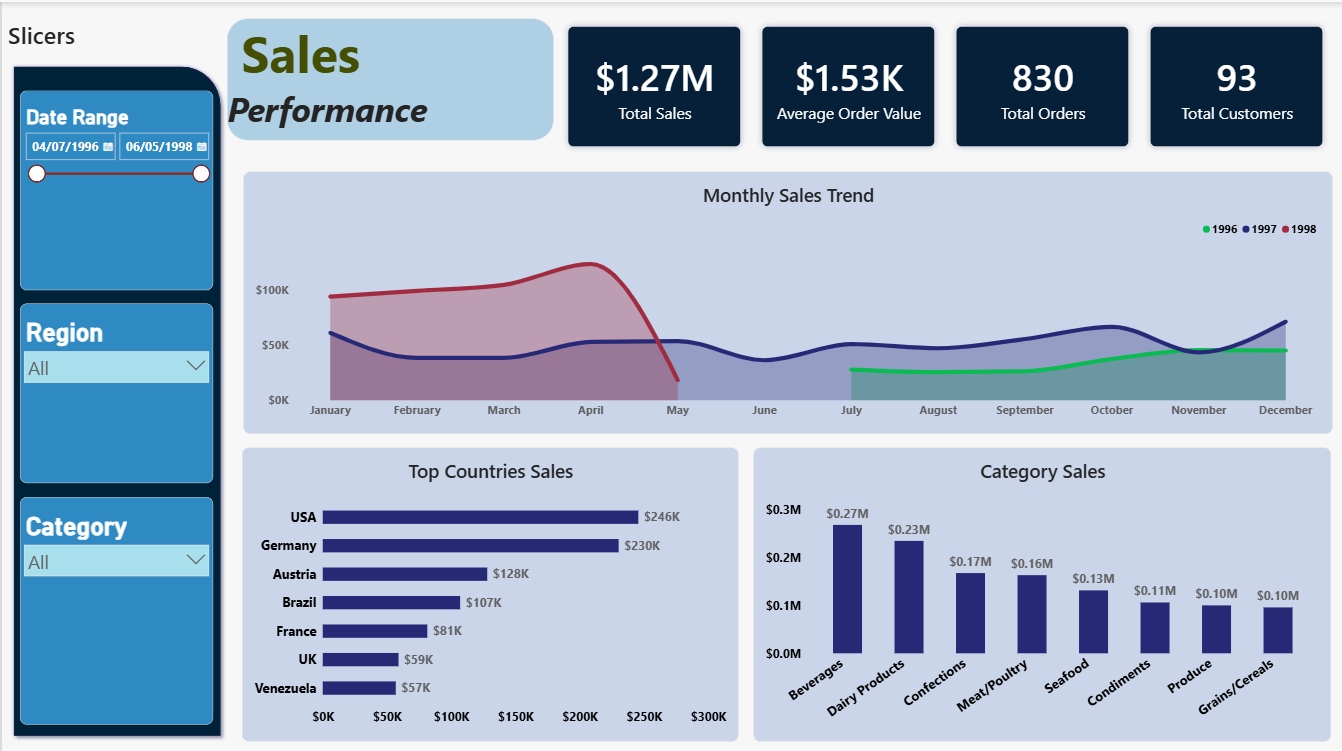

What the dashboard file says about the page in this screenshot:
{"tool":"powerbi","page":{"name":"Page 1","canvas":[1920,1080],"ordinal":0},"visuals":[{"type":"shape","title":"Slicers","box":[9.5,23.9,312.6,1035.5],"z":0},{"type":"textbox","box":[321.3,23.6,467.8,174.8],"z":1},{"type":"cardVisual","fields":{"Data":["_measures.Total Sales","_measures.Average Order Value","_measures.Total Orders","_measures.Total Customers"]},"box":[799.3,23.9,1104.7,195.6],"z":2},{"type":"lineChart","title":"Monthly Sales Trend","fields":{"Category":["analytics_marts dim_date.month_name"],"Series":["analytics_marts dim_date.year"],"Y":["_measures.Total Sales"]},"box":[344.9,243.4,1559.9,376],"z":3},{"type":"barChart","title":"Top Countries Sales","fields":{"Category":["dim_customers.country"],"Y":["_measures.Total Sales"]},"box":[343.8,638.1,711.2,421.1],"z":4},{"type":"clusteredColumnChart","title":"Category Sales","fields":{"Category":["dim_products.category_name"],"Y":["_measures.Total Sales"]},"box":[1076.4,638.1,827.2,421.1],"z":5},{"type":"slicer","fields":{"Values":["dim_date.date_day"]},"box":[26,127.6,276.4,285.9],"z":6},{"type":"slicer","fields":{"Values":["dim_customers.region"]},"box":[26,432.4,276.4,257.5],"z":7},{"type":"slicer","fields":{"Values":["dim_products.category_name"]},"box":[26,708.8,276.4,326],"z":8}]}

Visuals, with their boxes in screenshot pixels (x1, y1, x2, y2), scaled from the page's 1920x1080 canvas onto the 1342x751 screenshot:
"Slicers" shape: left=7, top=17, right=225, bottom=737
textbox: left=225, top=16, right=552, bottom=138
cardVisual - _measures.Total Sales x _measures.Average Order Value: left=559, top=17, right=1331, bottom=153
"Monthly Sales Trend" lineChart: left=241, top=169, right=1331, bottom=431
"Top Countries Sales" barChart: left=240, top=444, right=737, bottom=737
"Category Sales" clusteredColumnChart: left=752, top=444, right=1331, bottom=737
slicer - dim_date.date_day: left=18, top=89, right=211, bottom=288
slicer - dim_customers.region: left=18, top=301, right=211, bottom=480
slicer - dim_products.category_name: left=18, top=493, right=211, bottom=720
